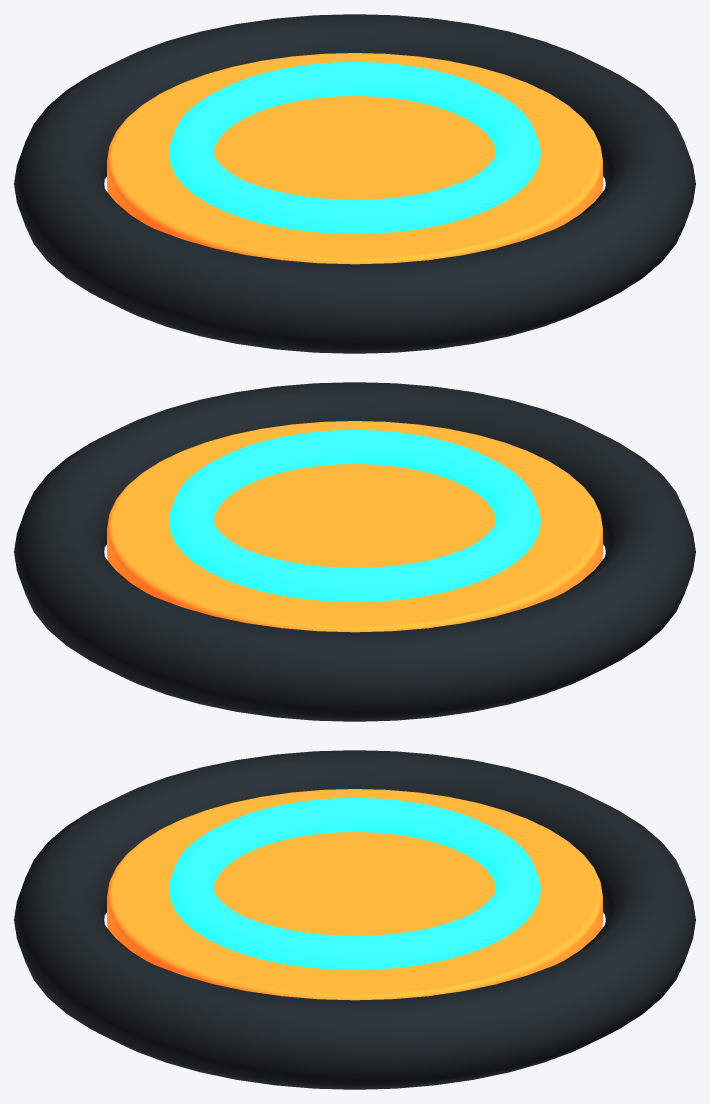
Rendered from solar_nomad_disc.glb.
3 views of the same model, one above another, from view 1: azimuth 30°, elevation 25°; view 2: azimuth 150°, elevation 25°; view 3: azimuth 270°, elevation 25° (orthographic).
Visible parts, largest first — view 1: ChargeCore_Graphitemechanism.001, ChargeCore_Solarcharge.001, ChargeCore_Containedplasma.001; view 2: ChargeCore_Graphitemechanism.001, ChargeCore_Solarcharge.001, ChargeCore_Containedplasma.001; view 3: ChargeCore_Graphitemechanism.001, ChargeCore_Solarcharge.001, ChargeCore_Containedplasma.001.
Part boxes in pixels (x1,y1,x2,y2): ChargeCore_Graphitemechanism.001: [14, 14, 695, 353]; ChargeCore_Solarcharge.001: [107, 53, 602, 264]; ChargeCore_Containedplasma.001: [169, 62, 540, 233]; ChargeCore_Graphitemechanism.001: [14, 382, 695, 721]; ChargeCore_Solarcharge.001: [107, 421, 602, 632]; ChargeCore_Containedplasma.001: [169, 430, 540, 601]; ChargeCore_Graphitemechanism.001: [14, 750, 695, 1089]; ChargeCore_Solarcharge.001: [107, 789, 602, 1000]; ChargeCore_Containedplasma.001: [169, 798, 540, 969].
Size of the model in its own units: 0.242 by 0.0348 by 0.242.
